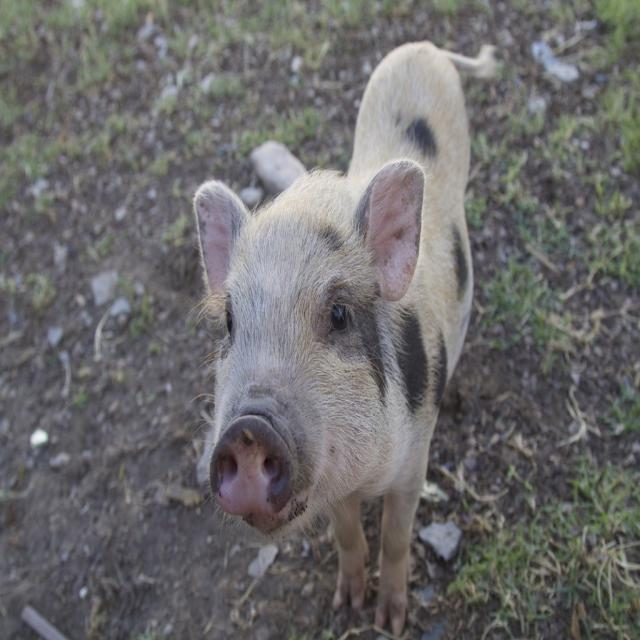Pig: (193, 38, 505, 640), (191, 33, 498, 635)
